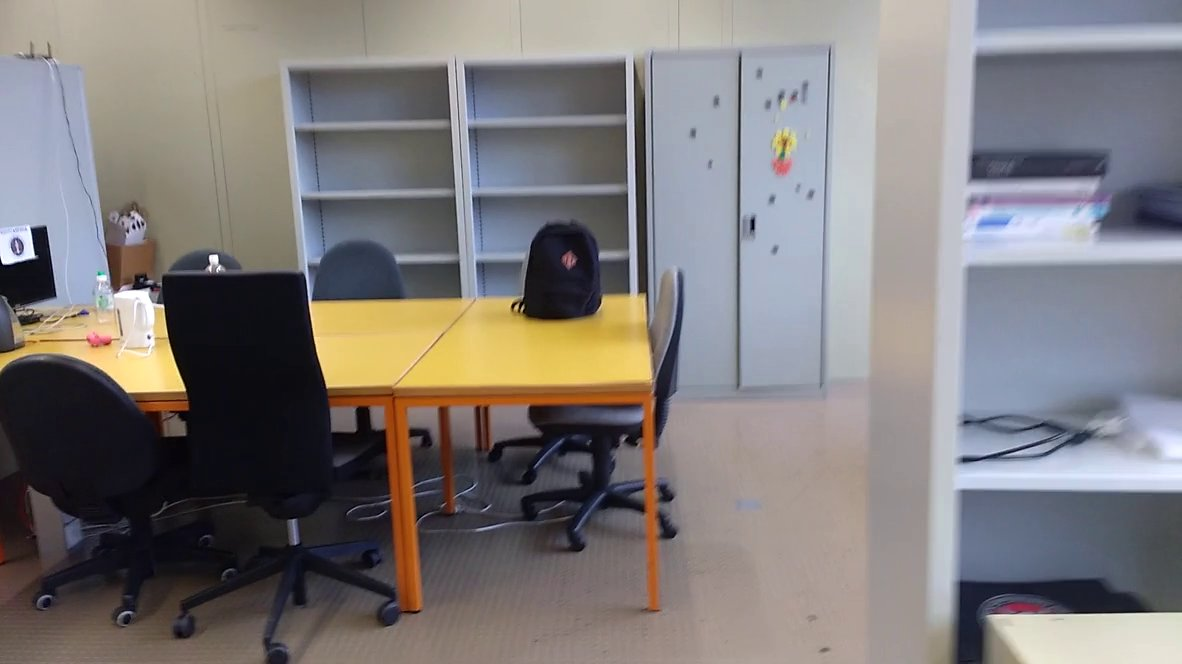bag: (510, 215, 610, 328)
chair: (155, 262, 435, 660), (1, 345, 229, 626), (521, 249, 703, 573), (310, 233, 423, 330)
